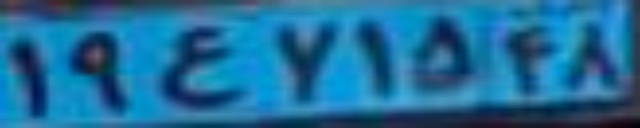1: (7, 38, 55, 119), (356, 17, 393, 96)
4: (506, 25, 556, 95)
5: (408, 15, 474, 90)
7: (275, 19, 342, 100)
8: (567, 22, 618, 92)
9: (67, 28, 129, 111)
ain: (153, 25, 238, 106)
